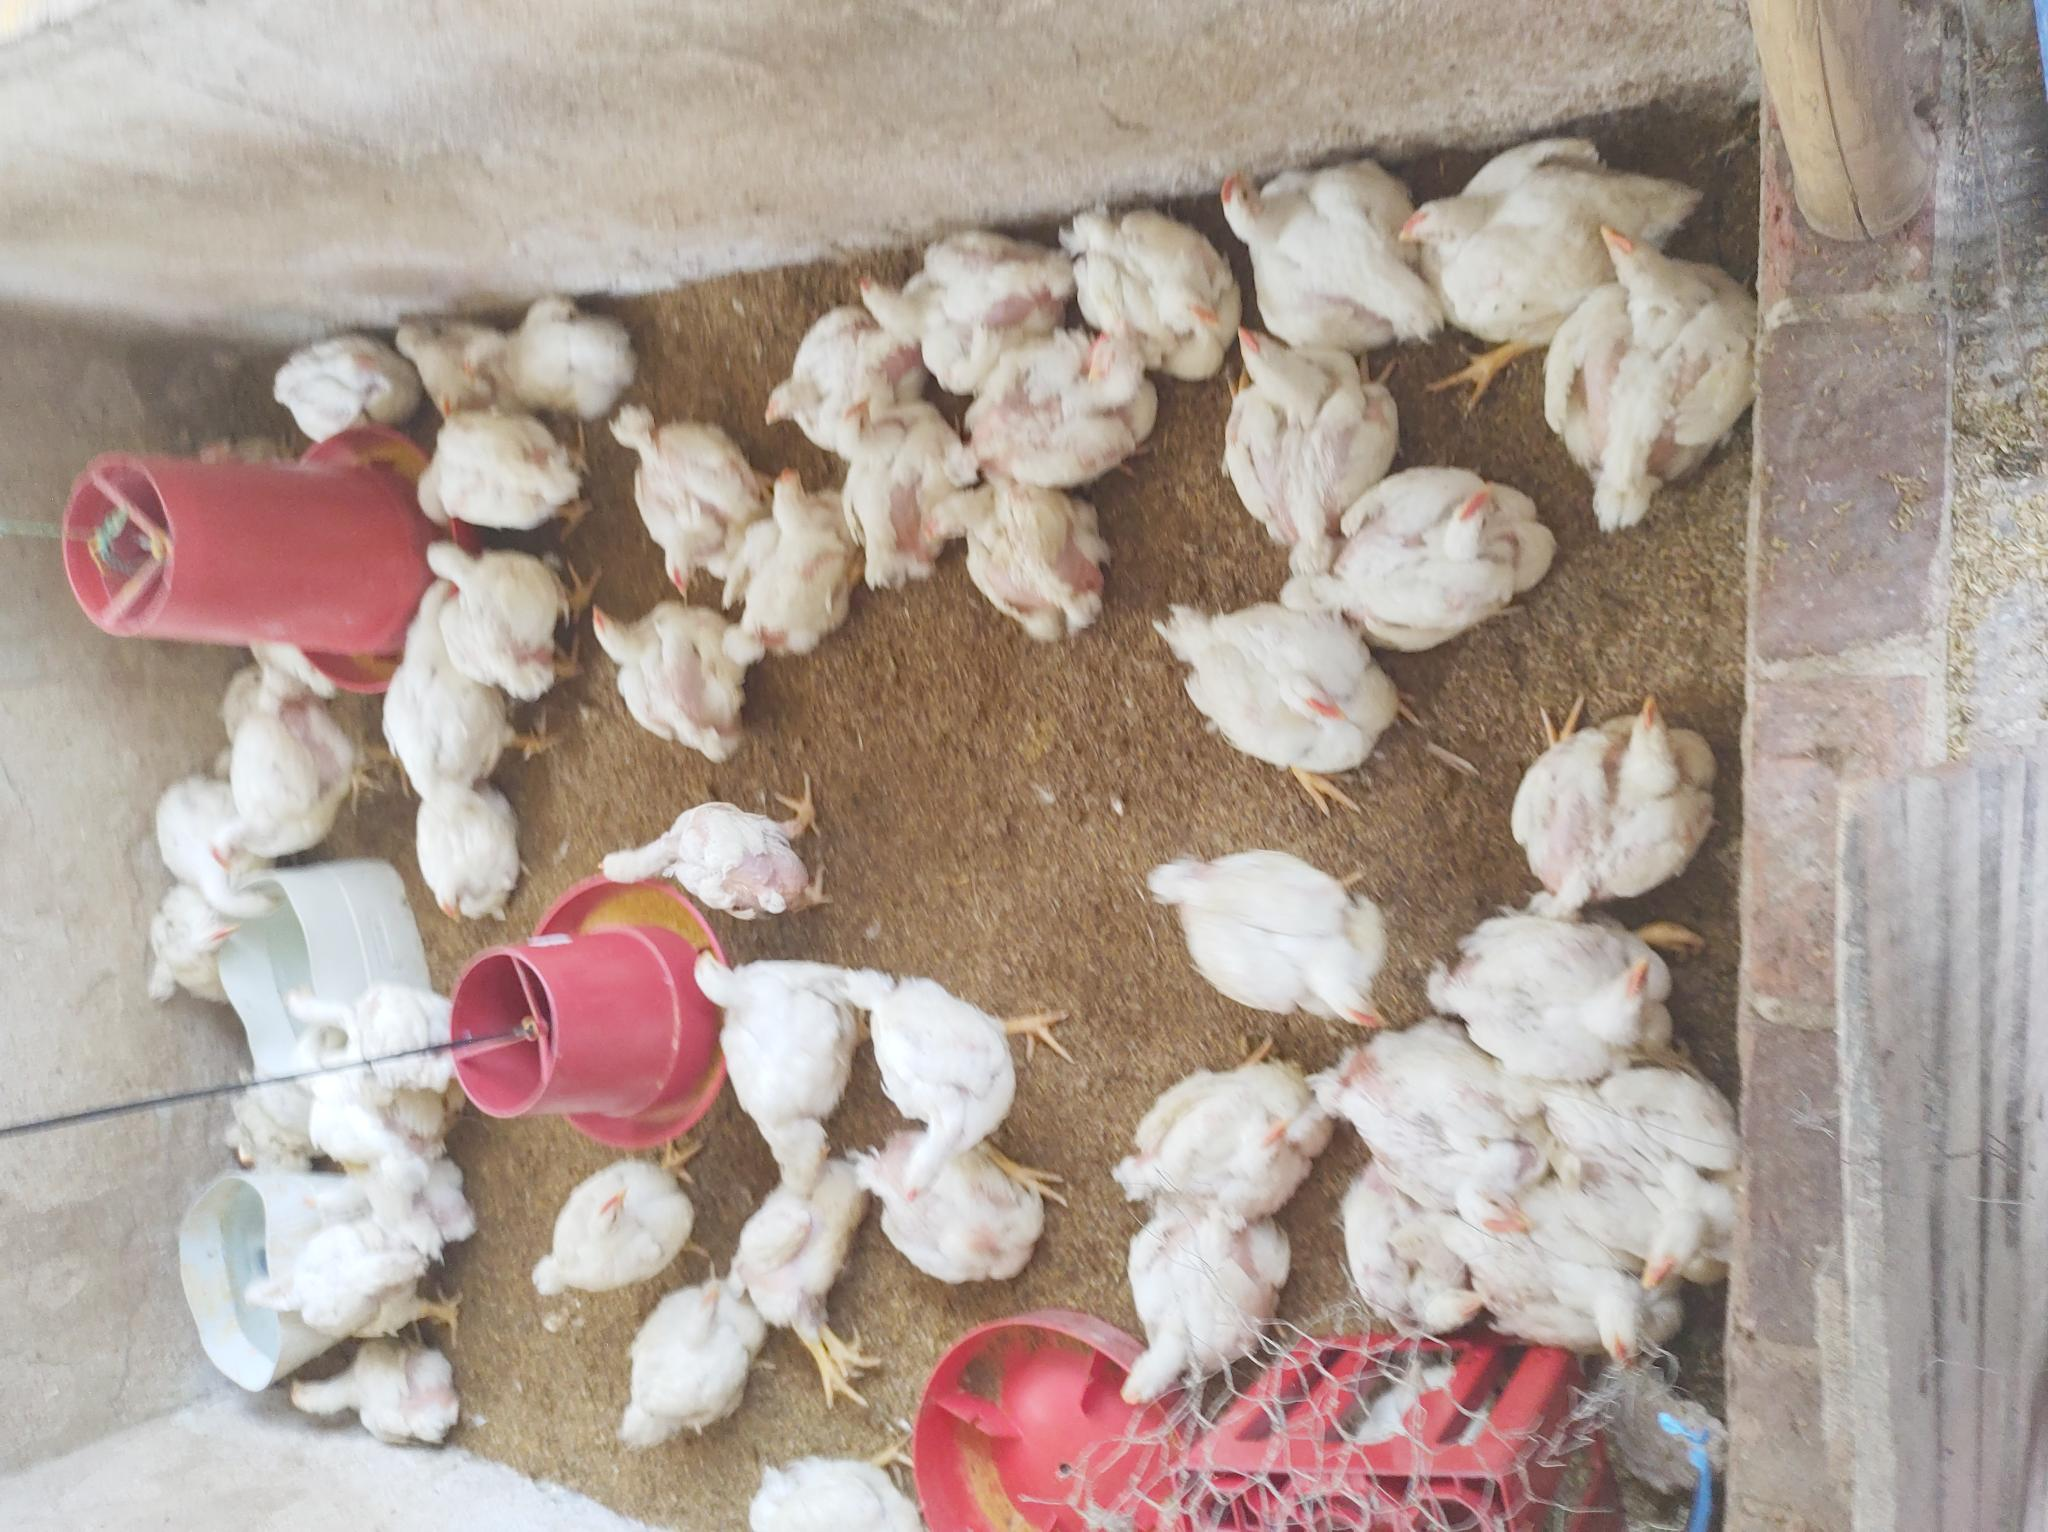Pollos: (1387, 134, 1705, 354), (1536, 216, 1752, 541), (1504, 687, 1723, 912), (1314, 1019, 1543, 1234), (1152, 846, 1396, 1040), (1528, 1062, 1729, 1291), (1213, 151, 1438, 352), (1163, 595, 1404, 774), (1429, 1191, 1663, 1374), (1435, 903, 1675, 1081), (1322, 462, 1548, 650), (1223, 323, 1401, 560), (1112, 1189, 1292, 1413), (849, 975, 1017, 1213), (853, 227, 1071, 401), (685, 941, 867, 1147), (952, 312, 1162, 488), (1117, 1051, 1321, 1220), (1063, 195, 1237, 388), (586, 594, 761, 768), (376, 570, 512, 793), (857, 1131, 1043, 1289), (951, 463, 1110, 645), (589, 795, 809, 925), (203, 697, 359, 871), (626, 406, 766, 599), (1342, 1168, 1501, 1337), (615, 1263, 759, 1448), (740, 1126, 864, 1337), (422, 541, 578, 702), (528, 1152, 692, 1305), (756, 307, 923, 457), (452, 290, 648, 417), (727, 462, 854, 657), (840, 401, 968, 592), (232, 1223, 434, 1340), (413, 409, 589, 541), (301, 1023, 444, 1173), (275, 1337, 457, 1455), (282, 975, 470, 1086), (151, 776, 285, 920), (299, 1152, 483, 1252), (405, 782, 529, 929), (264, 335, 418, 441), (381, 312, 508, 406), (150, 879, 236, 1011)
